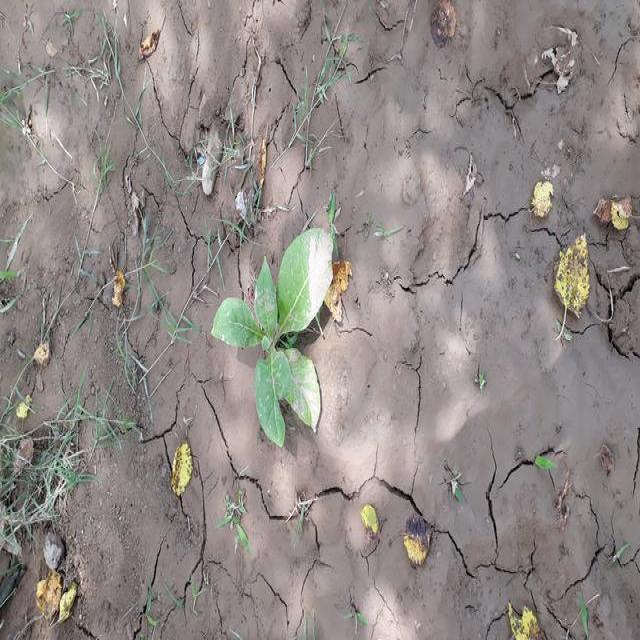crop: (211, 228, 339, 439)
